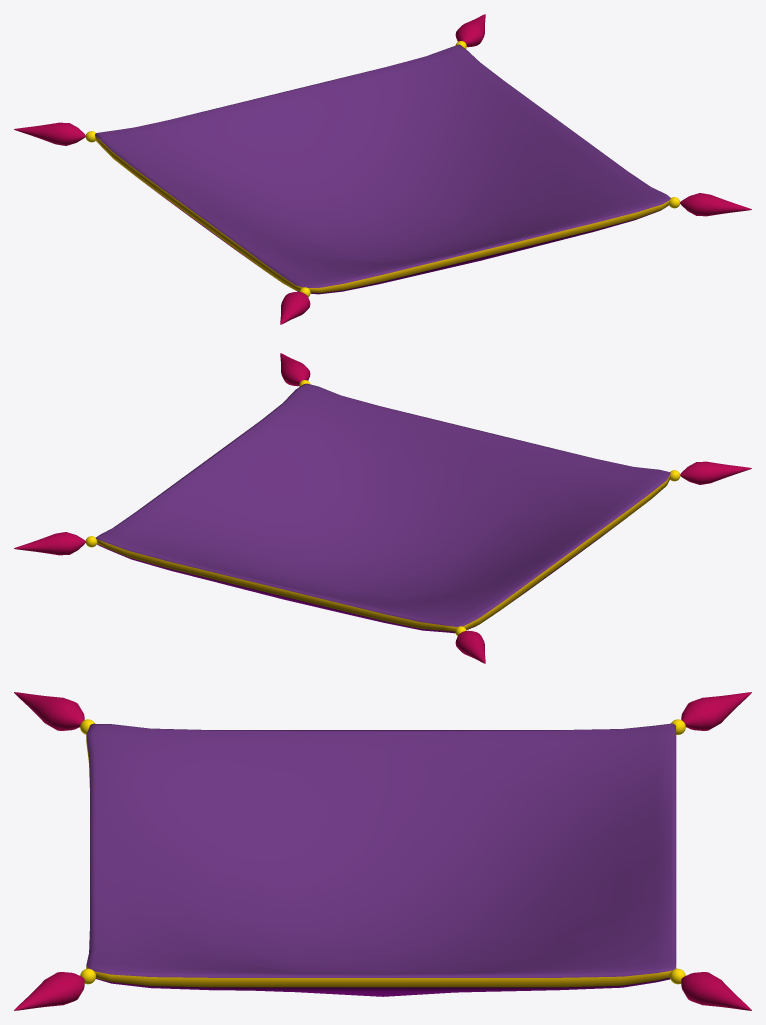
The model's file is carpet_geo.fbx.
The picture shows the model from 3 angles, top to bottom: view 1: azimuth 30°, elevation 25°; view 2: azimuth 150°, elevation 25°; view 3: azimuth 270°, elevation 25°; orthographic projection. The views are drawn at different scales.
Parts seen in each view (by area): view 1: pCube1, pCylinder1; view 2: pCube1, pCylinder1; view 3: pCube1, pCylinder1, pSphere1.
Part boxes in pixels (box(x1,y1,x2,y2)): pCube1: box(95, 44, 670, 294); pCylinder1: box(14, 14, 751, 324); pCube1: box(96, 383, 670, 633); pCylinder1: box(14, 353, 751, 663); pCube1: box(86, 723, 676, 996); pCylinder1: box(14, 692, 751, 1010); pSphere1: box(80, 719, 685, 984).
Size of the model in its own units: 931 by 165 by 912.
